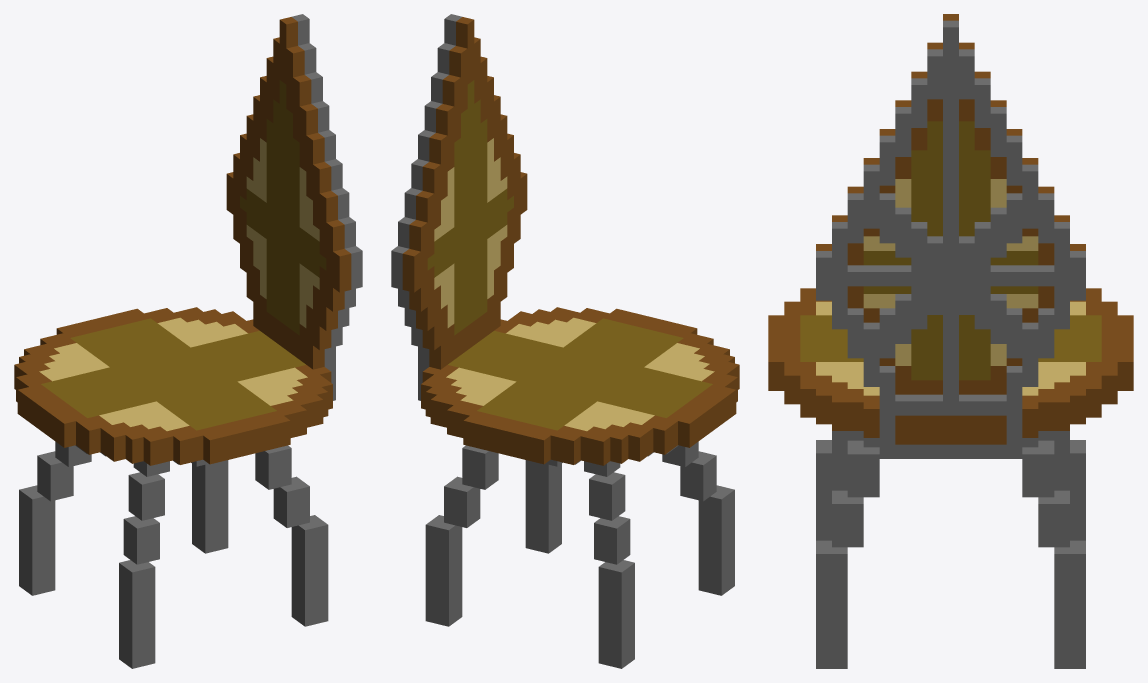
Rendered from Chair_1.obj.
3 renders of one model, left to right at view 1: azimuth 30°, elevation 25°; view 2: azimuth 150°, elevation 25°; view 3: azimuth 270°, elevation 25°, orthographic. The views are drawn at different scales.
Visible parts, largest first — view 1: Chair_1; view 2: Chair_1; view 3: Chair_1.
Part boxes in pixels (x1,y1,x2,y2): Chair_1: (14, 14, 362, 668); Chair_1: (391, 14, 739, 668); Chair_1: (768, 14, 1133, 668).
Size of the model in its own units: 23 by 46 by 23.
1 material, 1 textured.
